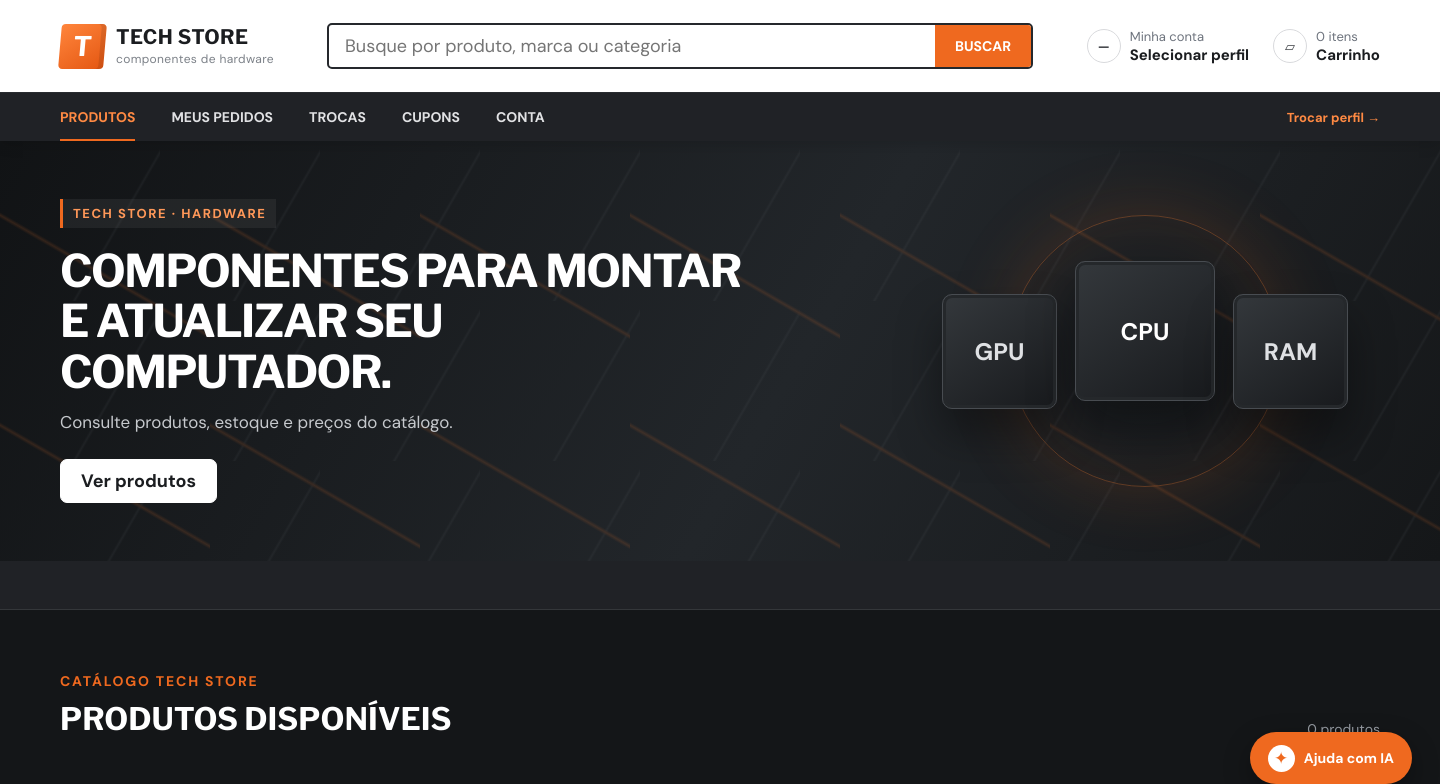
Tech Store conectada à API › mantém navegação e carrinho vazio quando não há registros
The image size is (1440, 784).
Expected: the heading "Componentes para montar" is shown, [60,246,780,397]
Click the link "▱ 0 itens Carrinho": (1327, 46) [1273,28,1380,64]
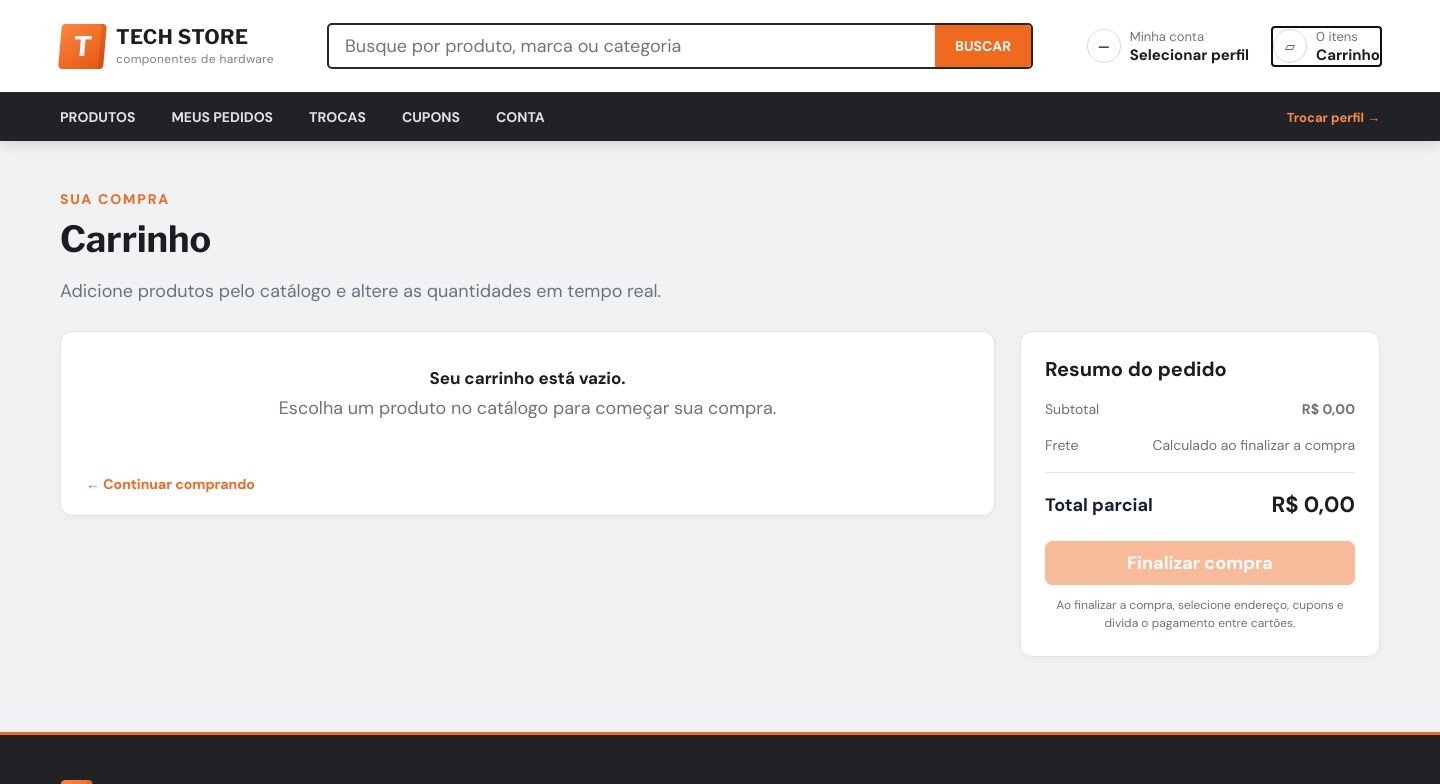
Expected: the text "Seu carrinho está vazio." is shown, [429,367,626,389]
